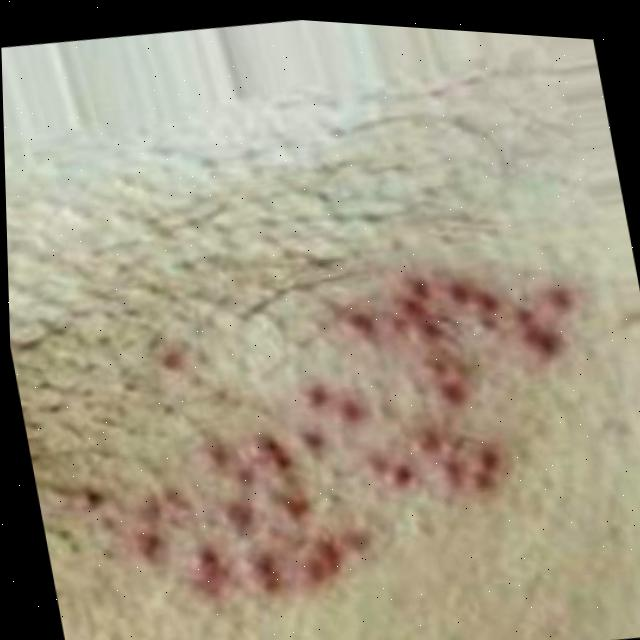Shingles: (86, 240, 617, 640)
